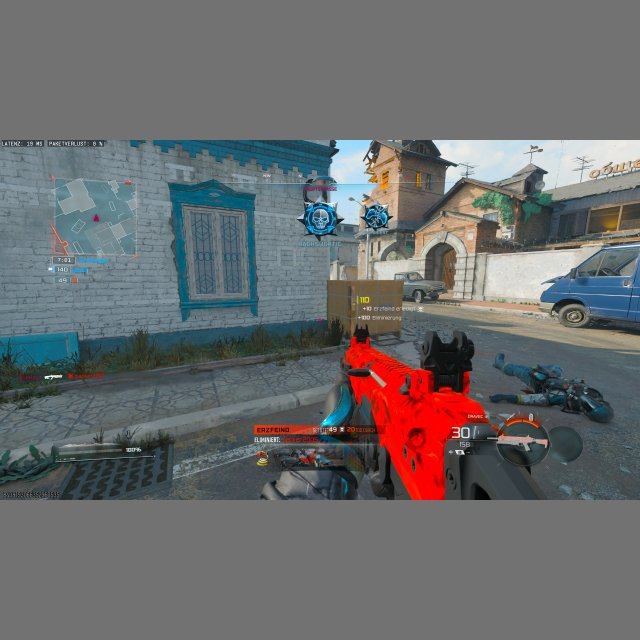head: (582, 390, 614, 424)
